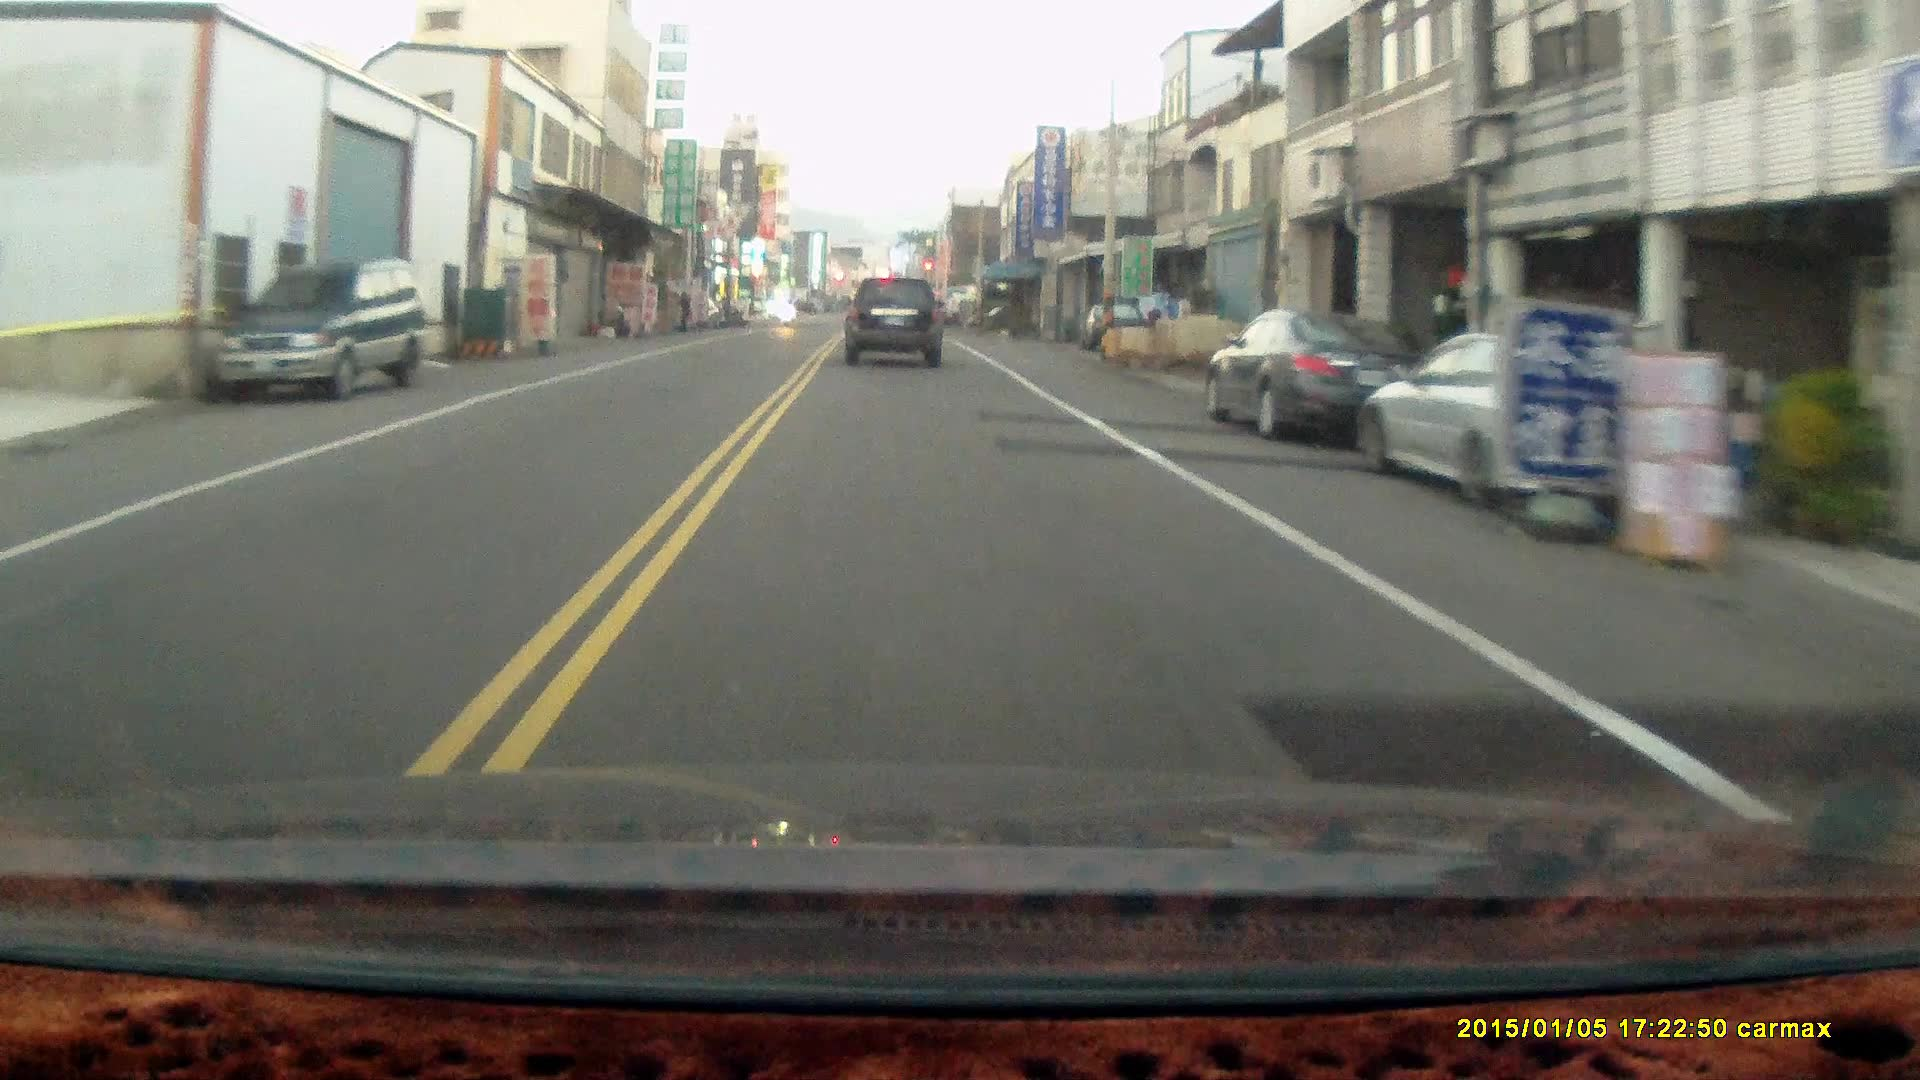pedestrian: (672, 288, 692, 332)
vehicle: (1363, 326, 1730, 510), (211, 254, 430, 402), (1202, 309, 1439, 442), (845, 276, 946, 370)
